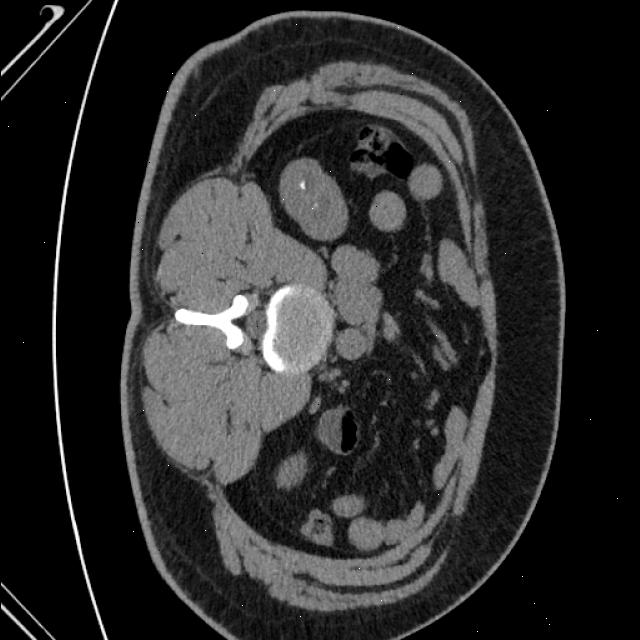kidneystone: (298, 181, 305, 189)
